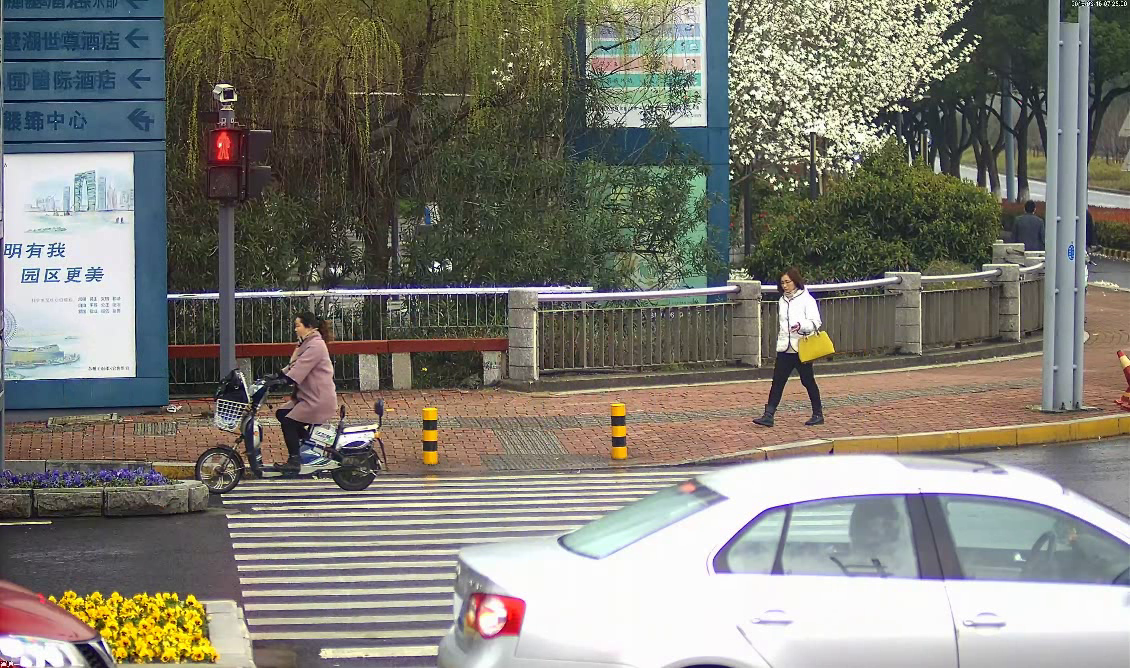person: (264, 305, 345, 489), (751, 265, 840, 432), (1007, 195, 1049, 261)
